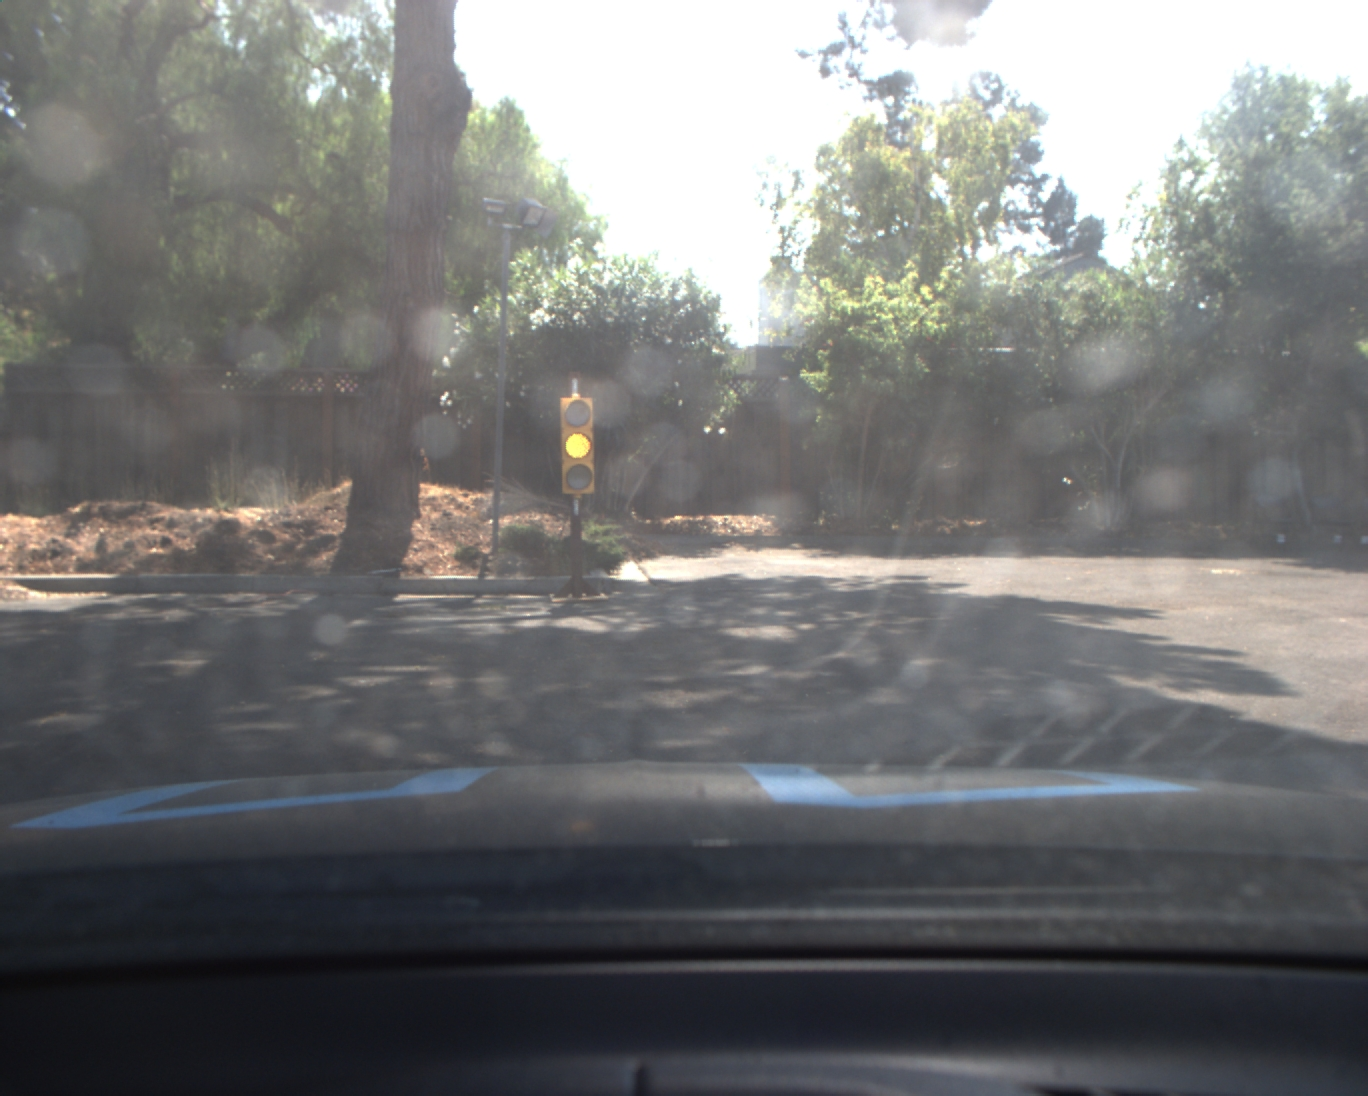yellow: (559, 395, 600, 497)
